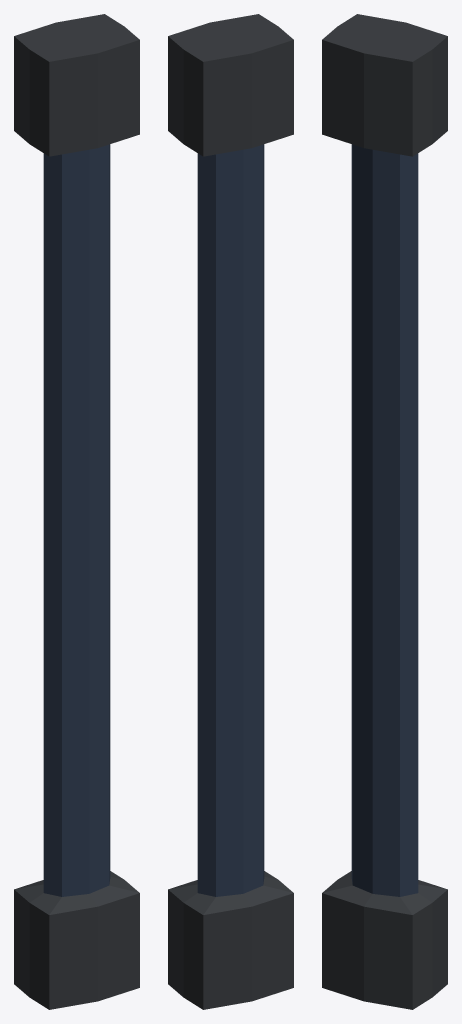
The model's file is SM_Prop_NeonLight_05.fbx.
3 views of the same model, side by side, from view 1: azimuth 30°, elevation 25°; view 2: azimuth 210°, elevation 25°; view 3: azimuth 330°, elevation 25° (orthographic).
Parts seen in each view (by area): view 1: SM_Prop_NeonLight_05; view 2: SM_Prop_NeonLight_05; view 3: SM_Prop_NeonLight_05.
Part boxes in pixels (x1,y1,x2,y2): SM_Prop_NeonLight_05: (14, 14, 139, 1009); SM_Prop_NeonLight_05: (168, 14, 293, 1009); SM_Prop_NeonLight_05: (322, 14, 447, 1009).
Bounding box in the file's own units: 26.86 × 257 × 20.67.
